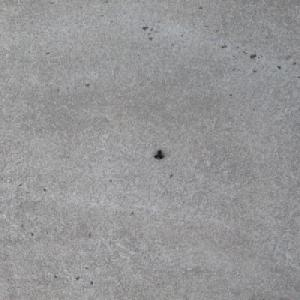BoltWasher: (153, 149, 164, 159)
